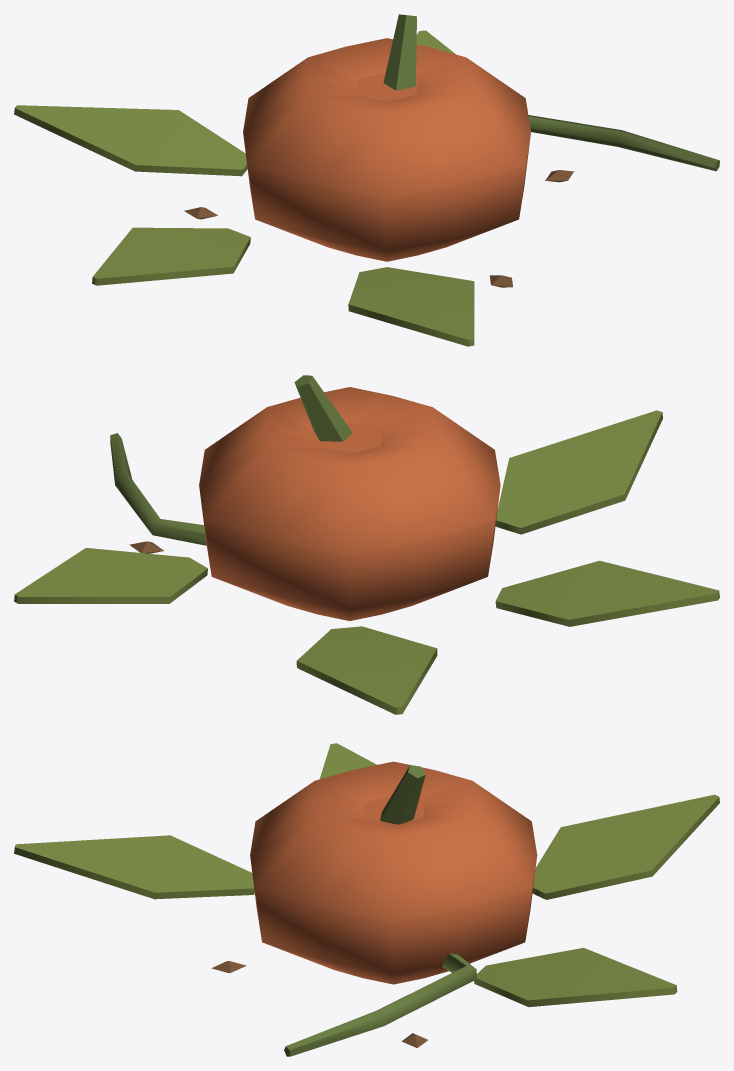
File: crop_pumpkin_mature.glb
3 renders of one model, top to bottom at view 1: azimuth 30°, elevation 25°; view 2: azimuth 150°, elevation 25°; view 3: azimuth 270°, elevation 25°, orthographic. The views are drawn at different scales.
Visible parts, largest first — view 1: pumpkin_body, pumpkin_leaf_00, pumpkin_stem, pumpkin_crumb_00; view 2: pumpkin_body, pumpkin_leaf_00, pumpkin_stem; view 3: pumpkin_body, pumpkin_leaf_00, pumpkin_stem.
Boxes of the visible parts, left/top/right/bottom form: pumpkin_body: left=243, top=38, right=530, bottom=261; pumpkin_leaf_00: left=14, top=30, right=474, bottom=346; pumpkin_stem: left=383, top=14, right=719, bottom=171; pumpkin_crumb_00: left=184, top=170, right=573, bottom=287; pumpkin_body: left=199, top=387, right=500, bottom=620; pumpkin_leaf_00: left=14, top=410, right=719, bottom=714; pumpkin_stem: left=110, top=375, right=352, bottom=545; pumpkin_body: left=250, top=761, right=537, bottom=984; pumpkin_leaf_00: left=14, top=743, right=719, bottom=1007; pumpkin_stem: left=284, top=765, right=476, bottom=1056.
Bounding box in the file's own units: 0.9157 × 0.2996 × 0.9293.
